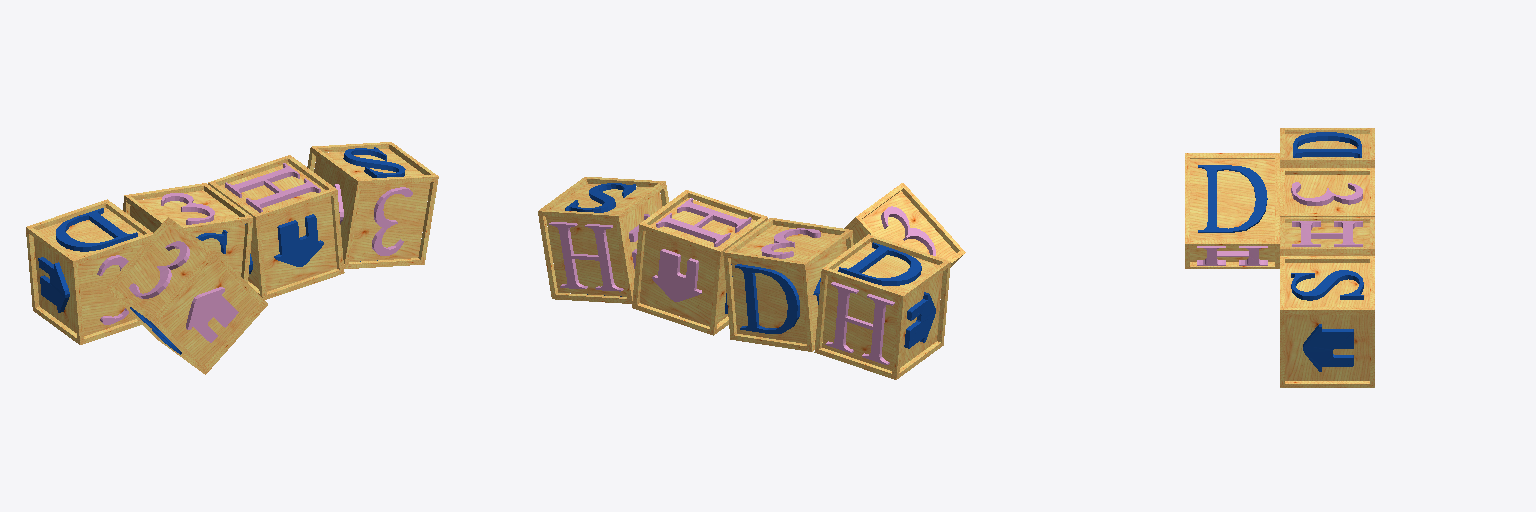
3 renders of one model, left to right at view 1: azimuth 30°, elevation 25°; view 2: azimuth 150°, elevation 25°; view 3: azimuth 270°, elevation 25°, orthographic.
Visible parts, largest first — view 1: Box076_90, Box051_59, Box013_2, Box038_40, Box025_21, Line056_42, Line061_93, Text012_45, Text002_3, Line052_4, Text013_58, Text015_63 (+16 smaller); view 2: Box013_2, Box025_21, Box051_59, Box038_40, Box076_90, Text004_7, Text016_64, Text006_22, Line057_43, Text012_45, Text002_3, Line052_4 (+20 smaller); view 3: Box051_59, Box076_90, Box025_21, Text018_91, Line058_61, Box038_40, Text013_58, Text002_3, Box013_2, Text012_45, Text020_95, Text007_25 (+8 smaller).
Part boxes in pixels (bbox=[...]): Box076_90: bbox=[115, 226, 258, 365]; Box051_59: bbox=[314, 149, 430, 261]; Box013_2: bbox=[34, 208, 144, 335]; Box038_40: bbox=[220, 163, 336, 291]; Box025_21: bbox=[130, 190, 244, 275]; Line056_42: bbox=[274, 214, 323, 266]; Line061_93: bbox=[186, 287, 238, 342]; Text012_45: bbox=[225, 163, 320, 212]; Text002_3: bbox=[56, 208, 137, 251]; Line052_4: bbox=[38, 257, 69, 312]; Text013_58: bbox=[343, 147, 405, 177]; Text015_63: bbox=[372, 187, 412, 255]; Box013_2: bbox=[822, 242, 942, 370]; Box025_21: bbox=[731, 225, 846, 343]; Box051_59: bbox=[546, 184, 662, 296]; Box038_40: bbox=[640, 198, 755, 326]; Box076_90: bbox=[851, 191, 955, 259]; Text004_7: bbox=[825, 282, 894, 364]; Text016_64: bbox=[549, 222, 623, 291]; Text006_22: bbox=[735, 264, 799, 333]; Line057_43: bbox=[652, 249, 701, 301]; Text012_45: bbox=[656, 198, 751, 246]; Text002_3: bbox=[838, 242, 921, 285]; Line052_4: bbox=[904, 292, 935, 348]; Box051_59: bbox=[1285, 263, 1369, 380]; Box076_90: bbox=[1190, 159, 1274, 261]; Box025_21: bbox=[1285, 175, 1369, 212]; Text018_91: bbox=[1198, 165, 1267, 232]; Line058_61: bbox=[1303, 324, 1353, 371]; Box038_40: bbox=[1285, 223, 1369, 255]; Text013_58: bbox=[1291, 270, 1363, 300]; Text002_3: bbox=[1293, 132, 1361, 157]; Box013_2: bbox=[1285, 134, 1369, 167]; Text012_45: bbox=[1292, 221, 1362, 246]; Text020_95: bbox=[1197, 246, 1267, 265]; Text007_25: bbox=[1291, 182, 1362, 205].
Size of the model in its own units: 40.09 by 12.68 by 18.
3 materials, 1 textured.